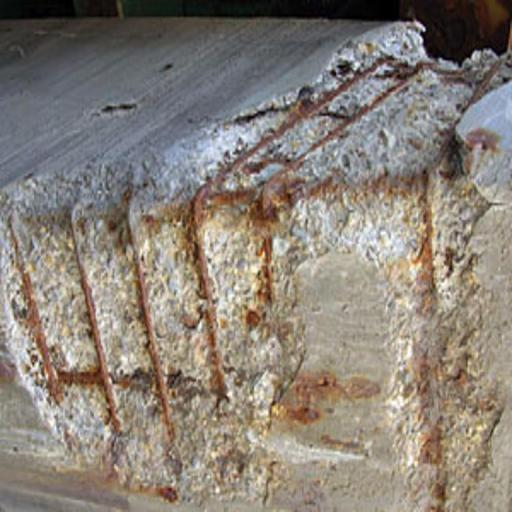spalling: (4, 26, 512, 512)
